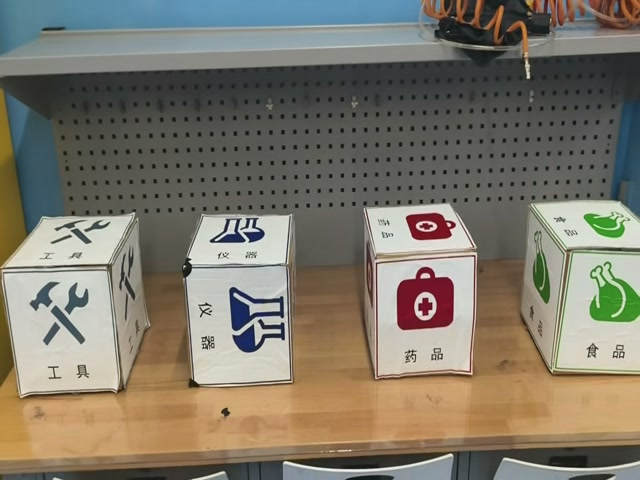Cube_food: (528, 201, 637, 254)
Cube_ins: (180, 216, 288, 271)
Cube_medicine: (364, 203, 479, 259)
Cube_tool: (1, 217, 137, 273)
